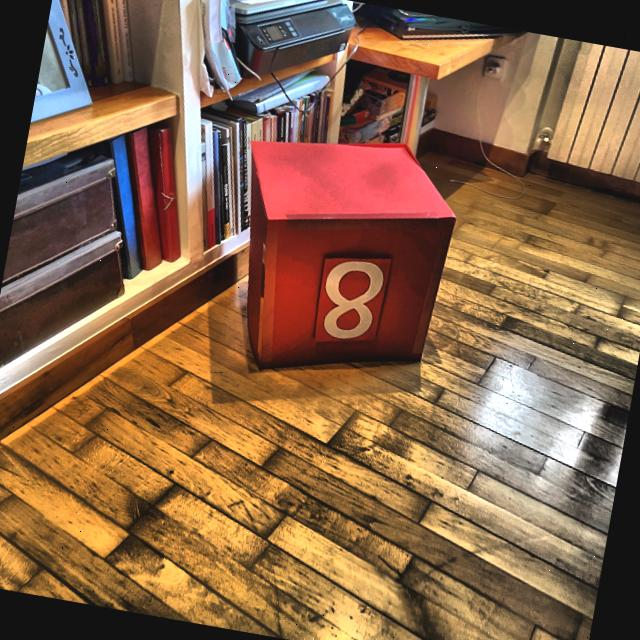eight: (314, 252, 386, 344)
red box: (206, 120, 462, 397)
